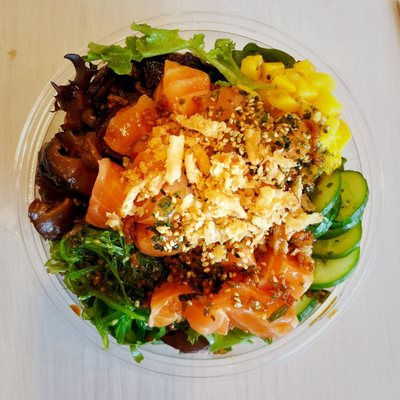curry: (5, 2, 399, 334)
